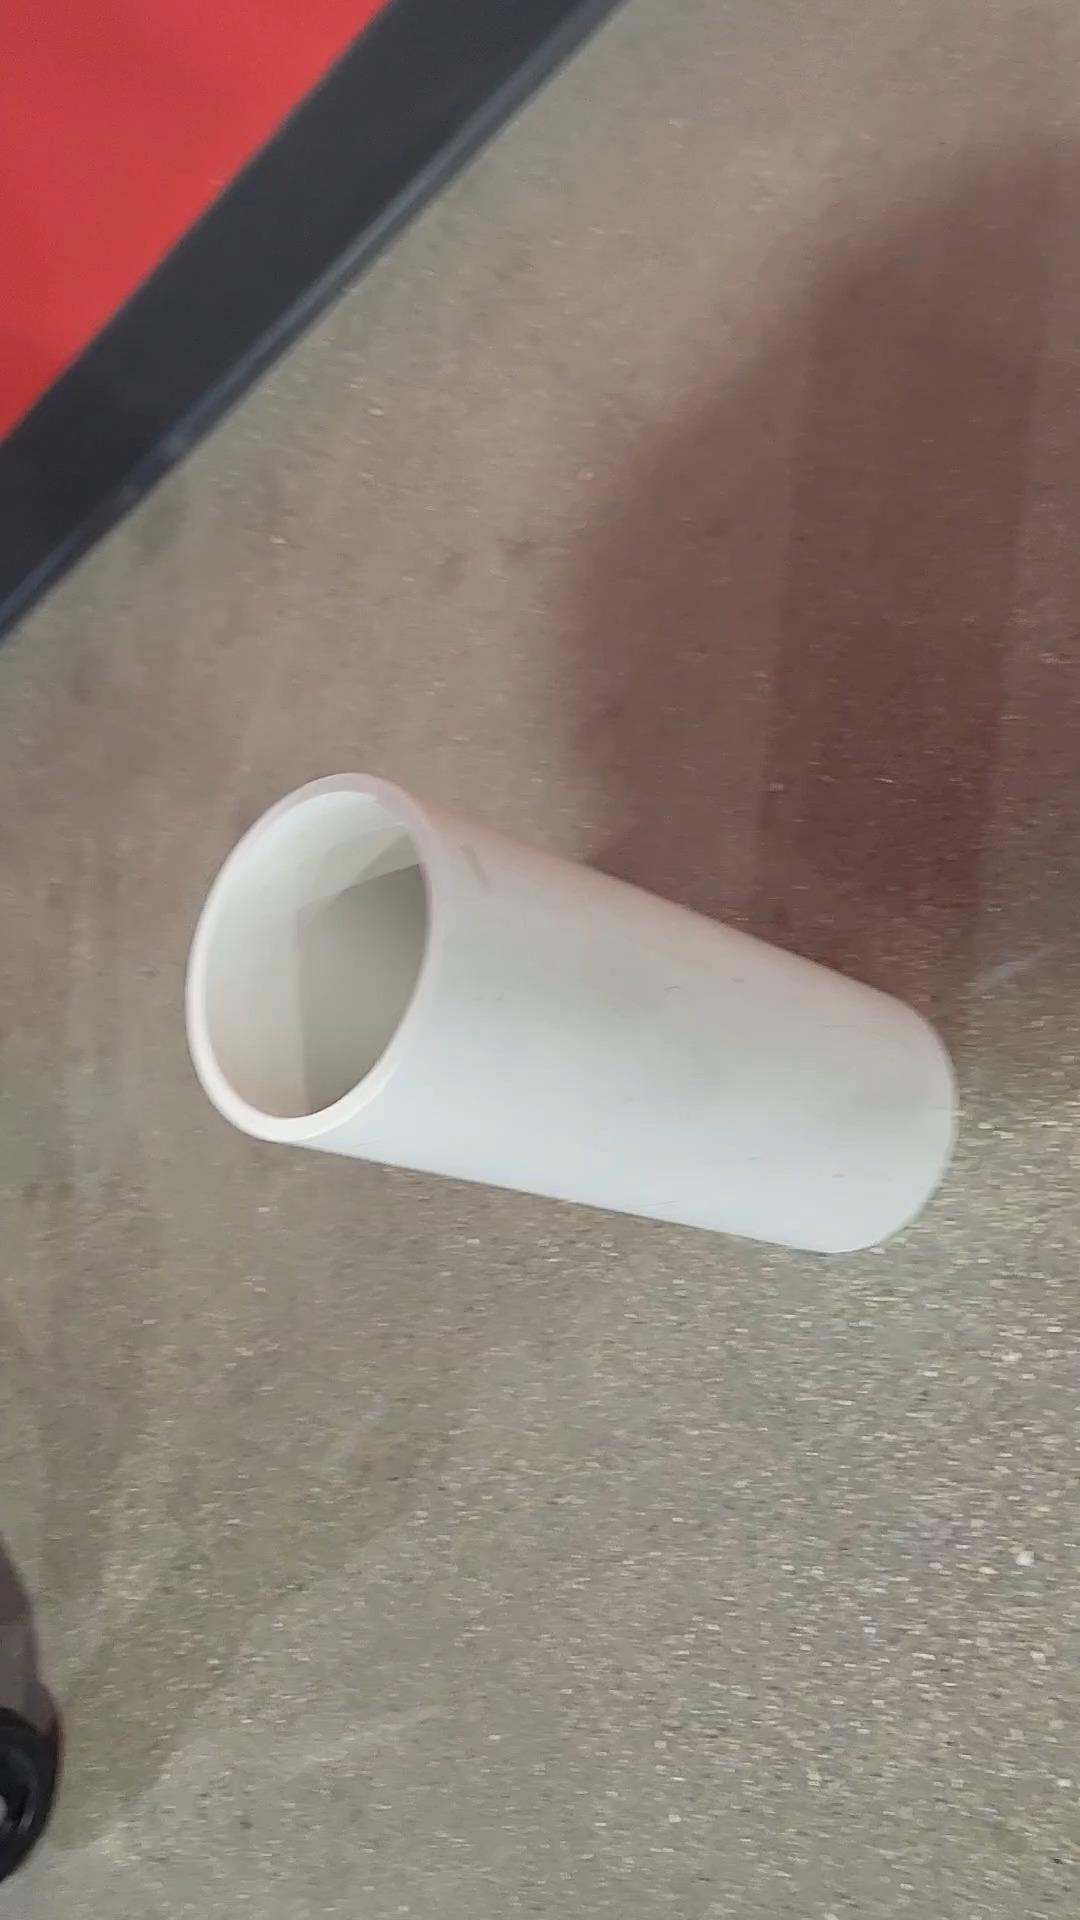coral: (187, 775, 955, 1255)
